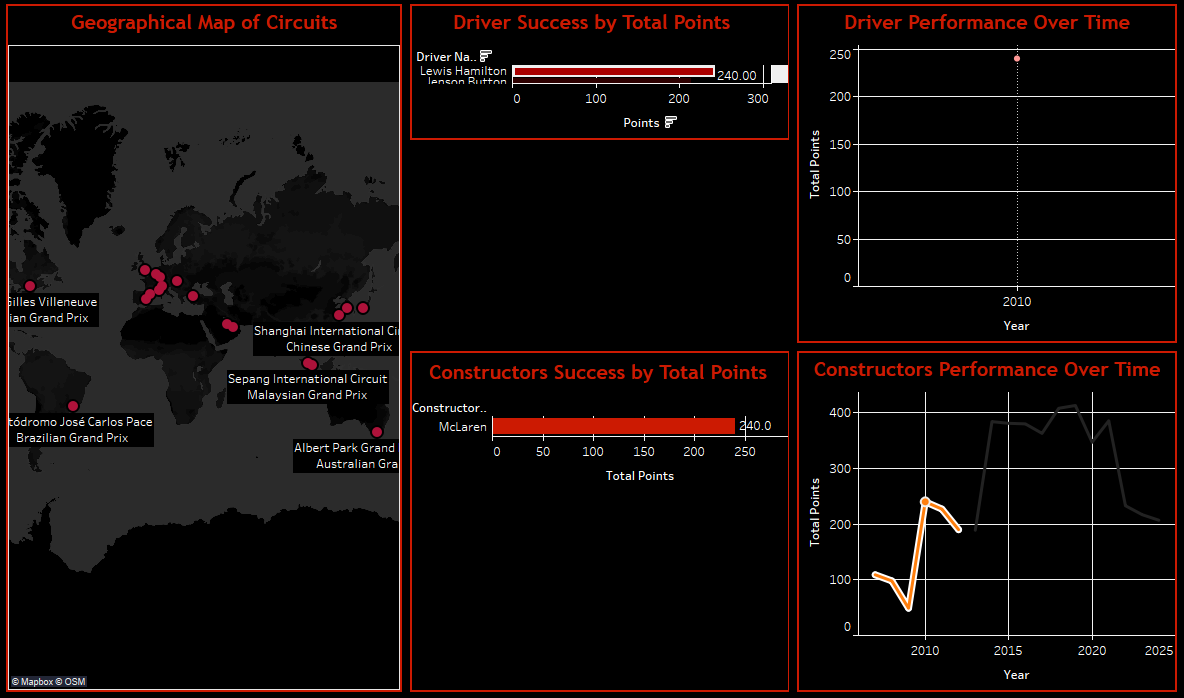

The dashboard page shown, as its layout file describes it:
{"tool":"tableau","page":{"name":"F1_25 Years of Racing","canvas":[1200,800],"ordinal":0},"visuals":[{"type":"image","param":"Image/F1 Logo.png","box":[10,10,405,84]},{"type":"text","box":[415,10,775,84]},{"type":"blank","box":[10,94,108,160]},{"type":"worksheet","title":"Geographical Map of Circuits","mark":"Automatic","rows":["lat"],"cols":["lng"],"box":[11,94,404,696]},{"type":"worksheet","title":"Most Successful Driver by Total Points","mark":"Automatic","rows":["Calculation_1403434290953232388"],"cols":["points"],"box":[414.6,94,387.7,346.8]},{"type":"worksheet","title":"Driver Performance Over Time","mark":"Line","rows":["points"],"cols":["year"],"box":[802.3,94,387.7,346.8]},{"type":"worksheet","title":"Most Successful Constructors by Points","mark":"Automatic","rows":["name_x"],"cols":["points"],"box":[414.6,440.8,387.7,349]},{"type":"worksheet","title":"Constructor Performance Over Time","mark":"Line","rows":["points"],"cols":["year"],"box":[802.3,440.8,387.7,349]}]}

Visuals, with their boxes on the page's 1200x800 design canvas (x1, y1, x2, y2). These are canvas units, not pixel positions in the 1184x698 screenshot, which may show the page scaled, cropped or inside an application window:
image: 10/10/415/94
text: 415/10/1190/94
blank: 10/94/118/254
"Geographical Map of Circuits" worksheet: 11/94/415/790
"Most Successful Driver by Total Points" worksheet: 415/94/802/441
"Driver Performance Over Time" worksheet (Line marks): 802/94/1190/441
"Most Successful Constructors by Points" worksheet: 415/441/802/790
"Constructor Performance Over Time" worksheet (Line marks): 802/441/1190/790
